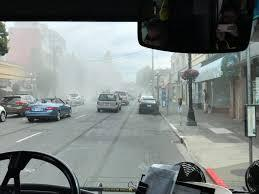smoke: (3, 21, 155, 105)
